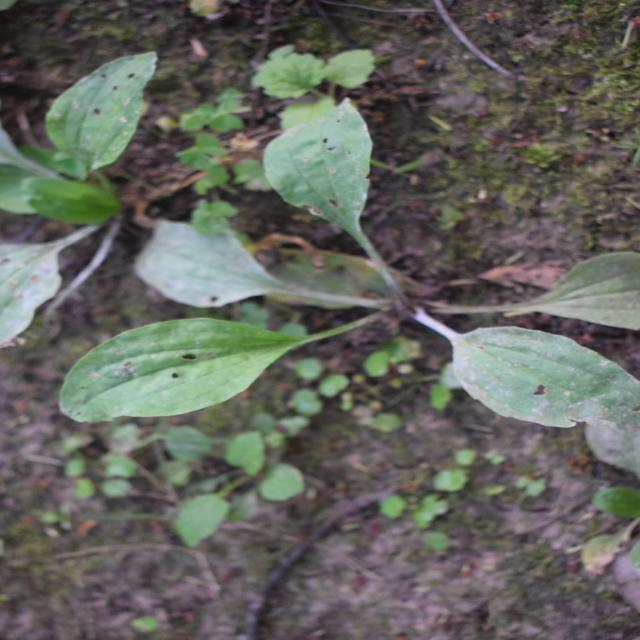plantain: (183, 46, 464, 566)
